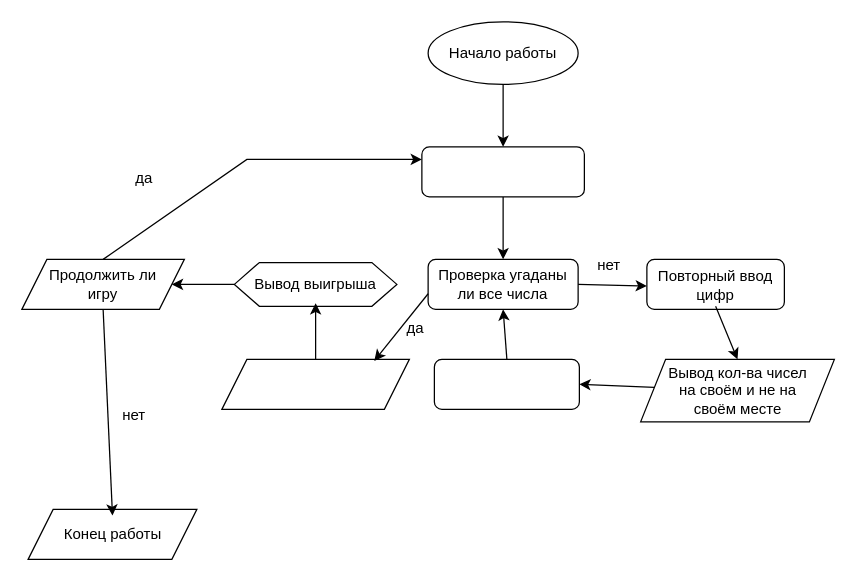
Some shapes in this 856 by 581 pixel diagram are drawn without their labels. The shapes that lost their labels are listed below. From the top down, each one's centre as x and y in pixels, then its label:
pixel 502 171: Подбор цифр для отгадывания
pixel 315 383: Все числа на своих местах
pixel 506 383: Вывести введенное число
